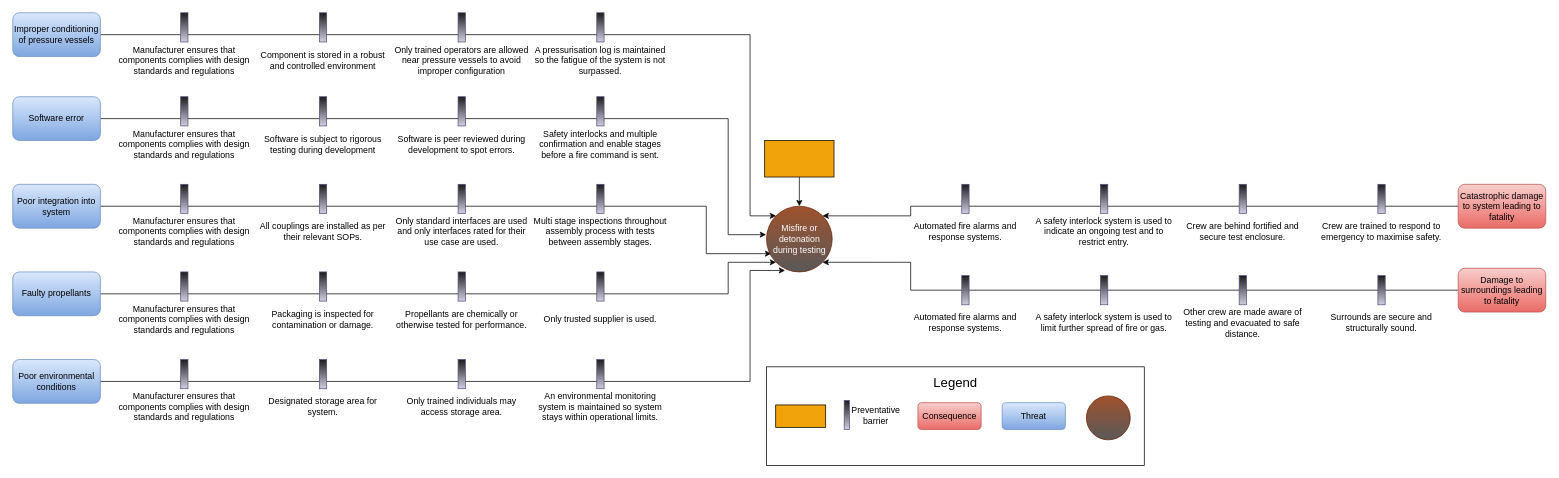
This 1559x478 diagram has some shape labels left out. The shapes that lost their labels are listed below. From the top down, each one's box as (x1, y1, x2, y2) in pixels, then its label:
(764, 140, 834, 177): Propulsion System
(775, 404, 826, 427): Hazard
(1086, 395, 1130, 440): Top event.
